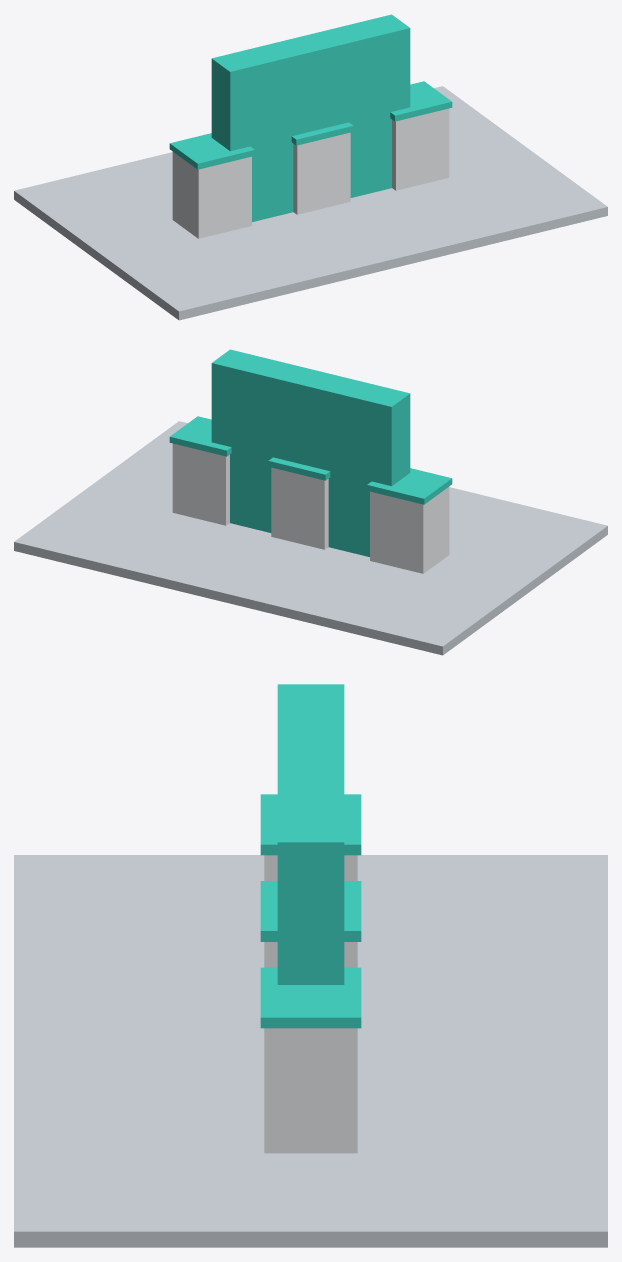
3 renders of one model, top to bottom at view 1: azimuth 30°, elevation 25°; view 2: azimuth 150°, elevation 25°; view 3: azimuth 270°, elevation 25°, orthographic. The views are drawn at different scales.
Parts seen in each view (by area): view 1: Exhibition Booth Concept; view 2: Exhibition Booth Concept; view 3: Exhibition Booth Concept.
Boxes of the visible parts, box(x1,y1,x2,y2) form: Exhibition Booth Concept: box(14, 14, 607, 320); Exhibition Booth Concept: box(14, 349, 607, 655); Exhibition Booth Concept: box(14, 684, 607, 1247).
Size of the model in its own units: 6 by 2.2 by 4.
